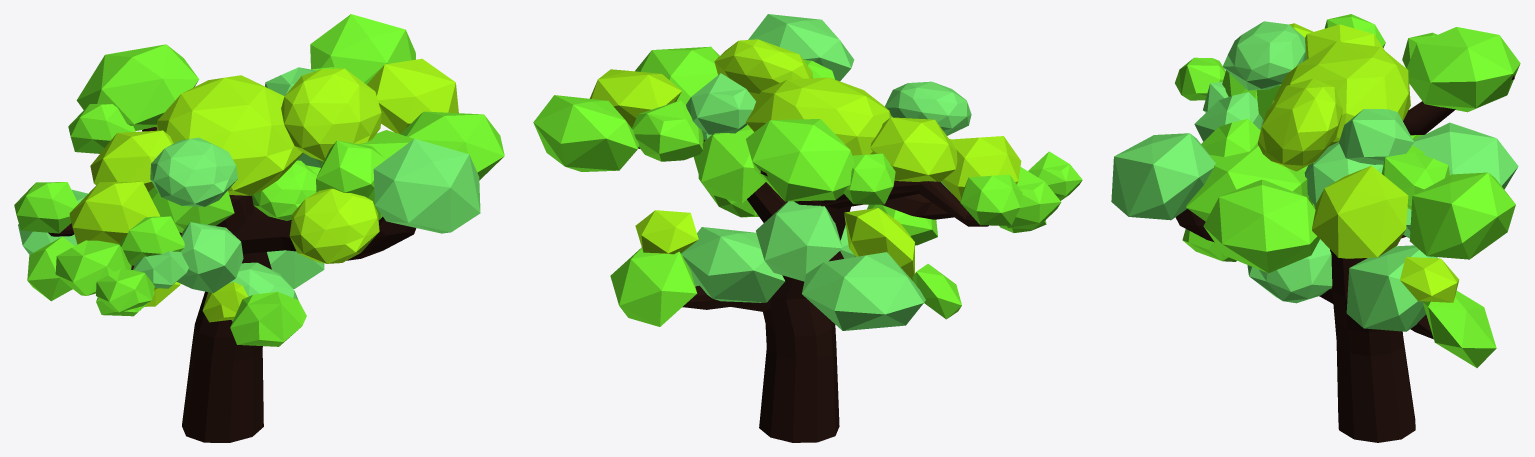
Rendered from 세계수6.fbx.
3 views of the same model, side by side, from view 1: azimuth 30°, elevation 25°; view 2: azimuth 150°, elevation 25°; view 3: azimuth 270°, elevation 25° (orthographic). The views are drawn at different scales.
Parts seen in each view (by area): view 1: GeoSphere028; view 2: GeoSphere028; view 3: GeoSphere028.
Part boxes in pixels (x1,y1,x2,y2): GeoSphere028: [14, 14, 504, 442]; GeoSphere028: [533, 14, 1082, 442]; GeoSphere028: [1111, 14, 1520, 442].
Bounding box in the file's own units: 1152 × 876 × 864.
